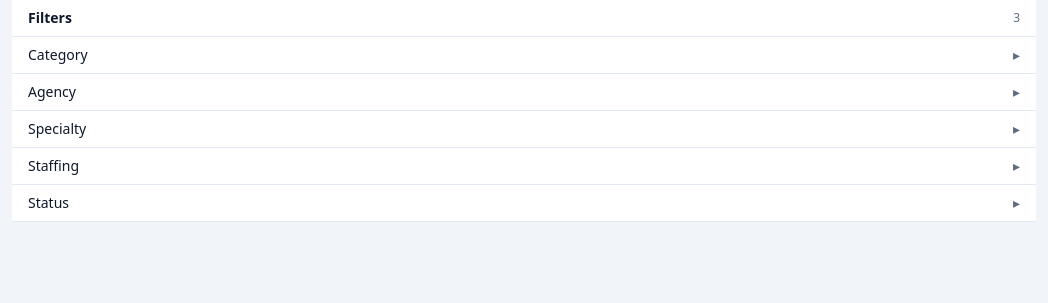
FilterPanel › facet groups › reveal their options with live counts when expanded
The width and height of the screenshot is (1048, 303).
Click the button "Category ▸" at (58, 54), box 12,37 -> 1036,73
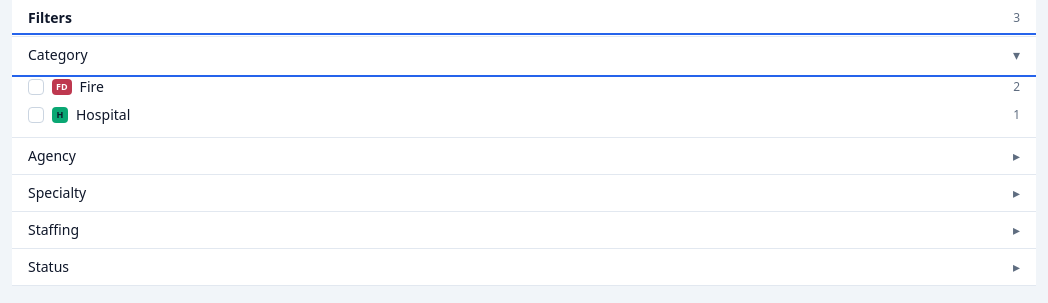
expect the text "2" is shown: met, box 1013,79 -> 1020,95
expect the checkbox labelled "H Hospital 1" is shown: met, box 20,101 -> 1028,129
